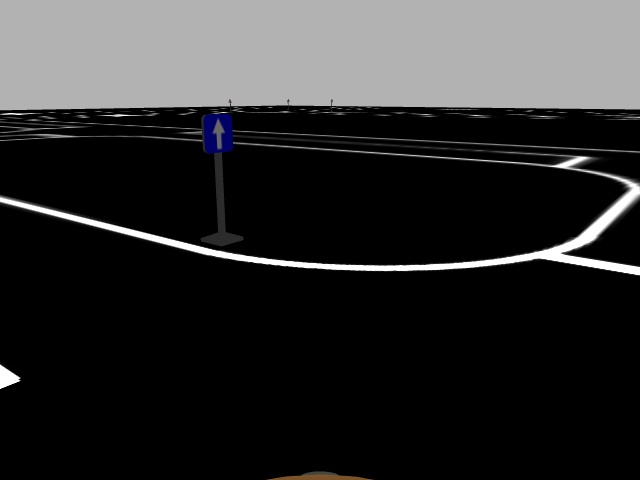oneway: (201, 113, 235, 154)
